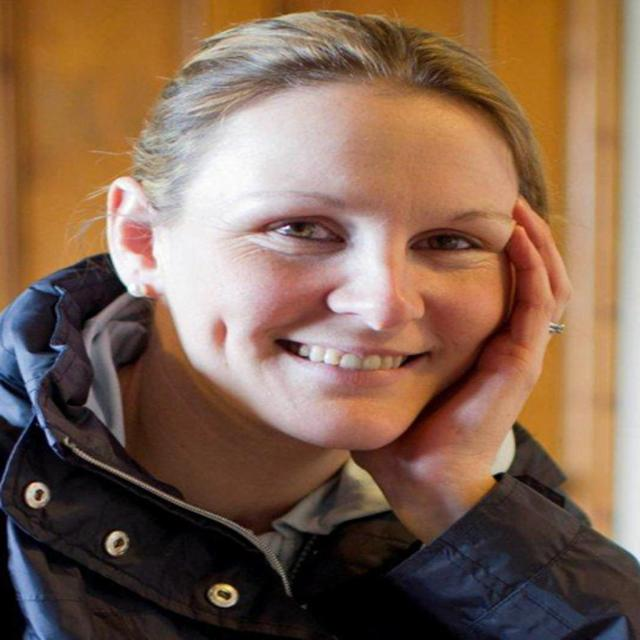Face: (131, 66, 512, 460)
